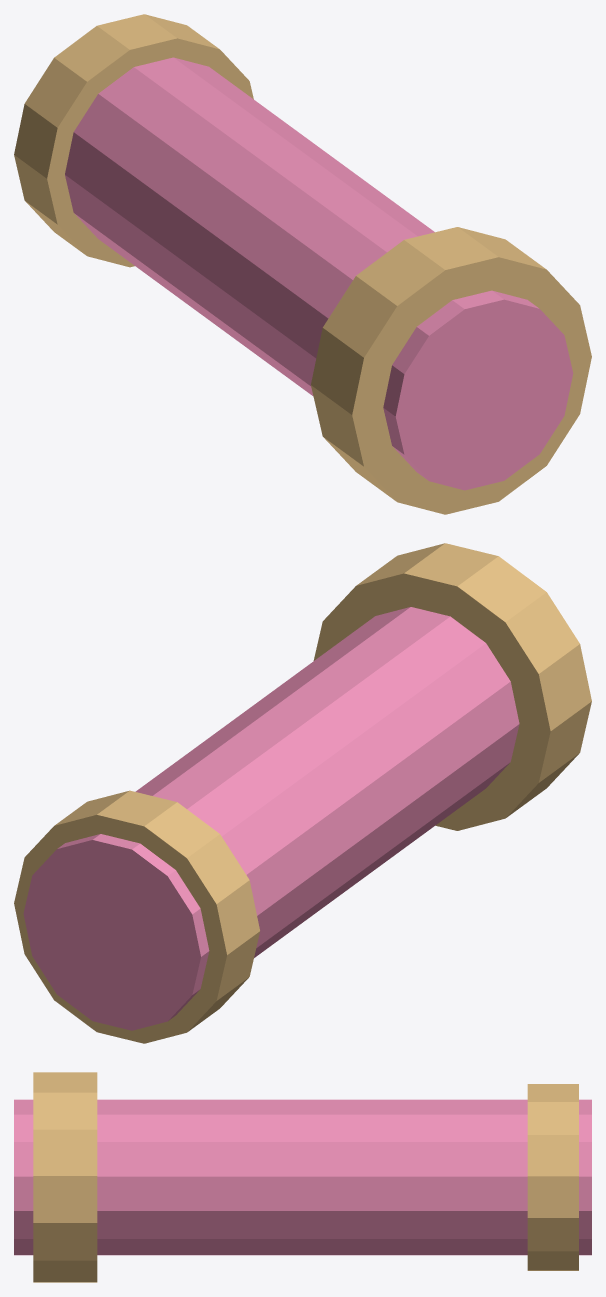
Rendered from ShortBarrel.obj.
3 renders of one model, top to bottom at view 1: azimuth 30°, elevation 25°; view 2: azimuth 150°, elevation 25°; view 3: azimuth 270°, elevation 25°, orthographic. The views are drawn at different scales.
Visible parts, largest first — view 1: ShortBarrel_Body, ShortBarrel_Detail; view 2: ShortBarrel_Body, ShortBarrel_Detail; view 3: ShortBarrel_Body, ShortBarrel_Detail.
Boxes of the visible parts, x1,y1,x2,y2 form: ShortBarrel_Body: (65,57,573,490); ShortBarrel_Detail: (14,14,591,514); ShortBarrel_Body: (23,607,519,1030); ShortBarrel_Detail: (14,543,591,1043); ShortBarrel_Body: (14,1099,591,1255); ShortBarrel_Detail: (33,1072,578,1282).
Size of the model in its own units: 0.1674 by 0.1632 by 0.45.
